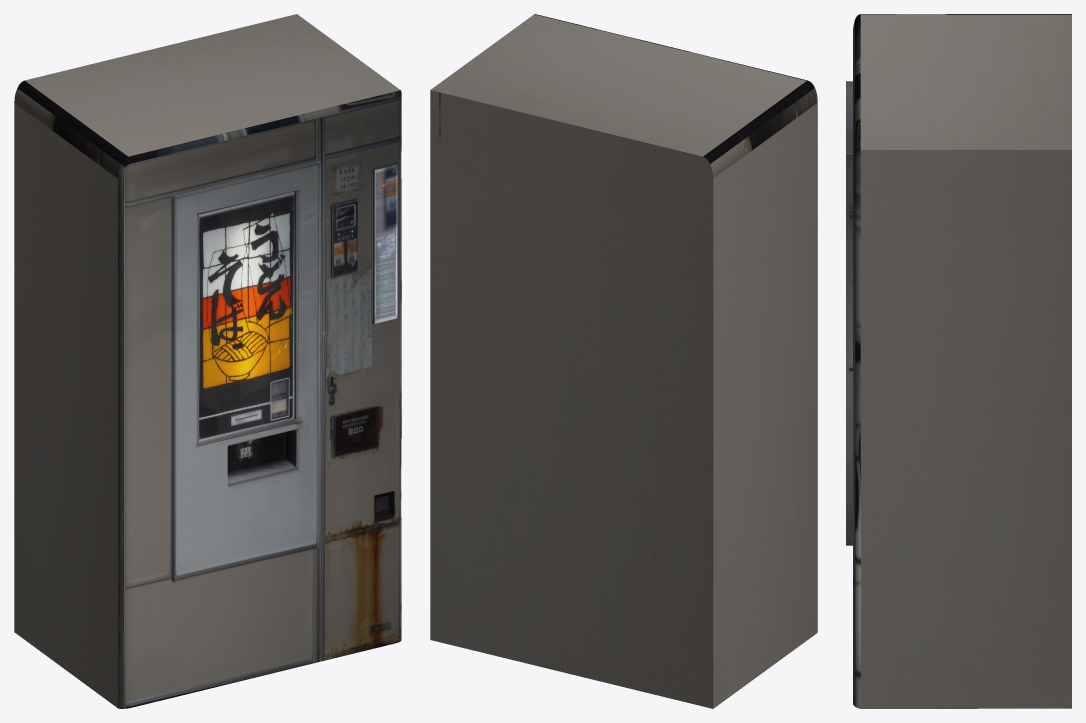
The picture shows the model from 3 angles, left to right: view 1: azimuth 30°, elevation 25°; view 2: azimuth 150°, elevation 25°; view 3: azimuth 270°, elevation 25°; orthographic projection.
Parts seen in each view (by area): view 1: Object_3, Object_4, Object_5, Object_6; view 2: Object_3; view 3: Object_3.
Boxes of the visible parts, <box> form: Object_3: <box>14,14,401,708</box>; Object_4: <box>199,191,294,441</box>; Object_5: <box>374,165,397,323</box>; Object_6: <box>332,200,358,275</box>; Object_3: <box>430,14,817,708</box>; Object_3: <box>846,14,1071,708</box>.
Size of the model in its own units: 2.68 by 4.98 by 1.82.
Materials: 5 (4 with a texture image).
